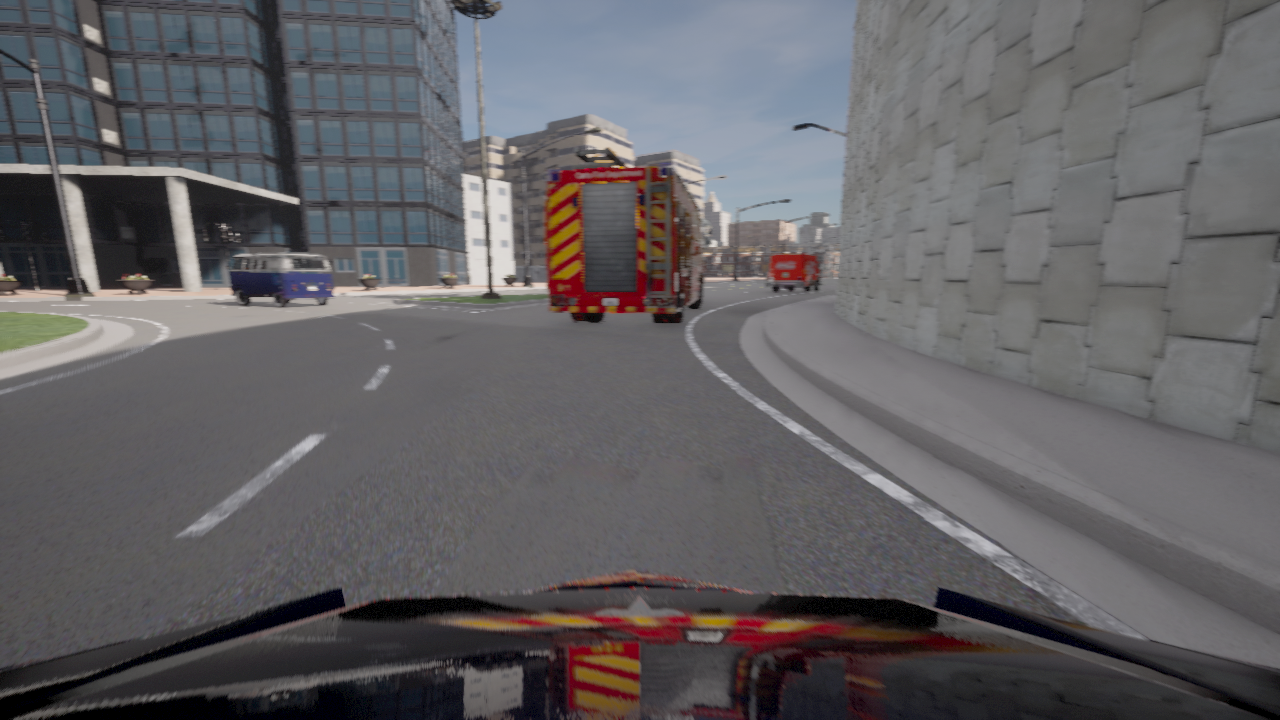cyclist: (0, 569, 1279, 719), (545, 146, 711, 323), (226, 253, 335, 307), (767, 254, 825, 291), (766, 275, 786, 287)
